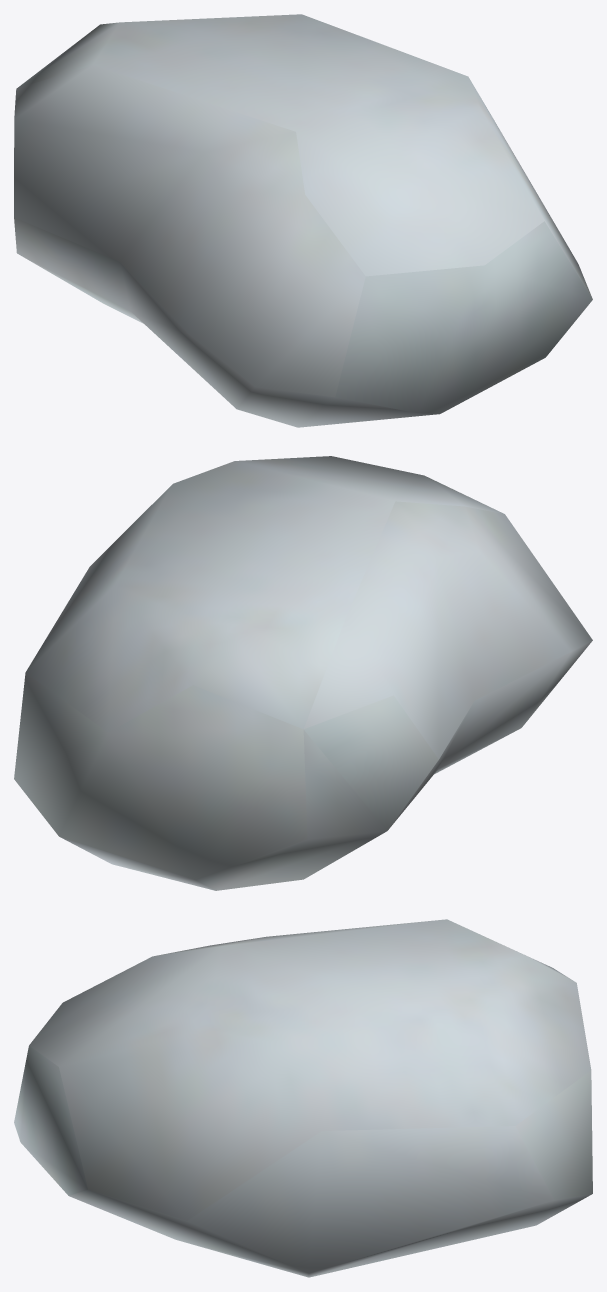
File: P_RockClassic3.obj
3 views of the same model, one above another, from view 1: azimuth 30°, elevation 25°; view 2: azimuth 150°, elevation 25°; view 3: azimuth 270°, elevation 25° (orthographic). The views are drawn at different scales.
Bounding box in the file's own units: 1.05 × 0.6375 × 1.4.
